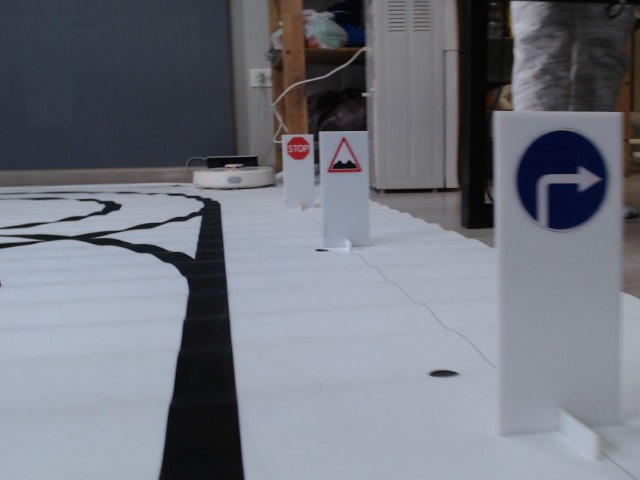Nerov: (326, 138, 361, 175)
Right: (514, 129, 606, 230)
Stop: (284, 135, 310, 163)
